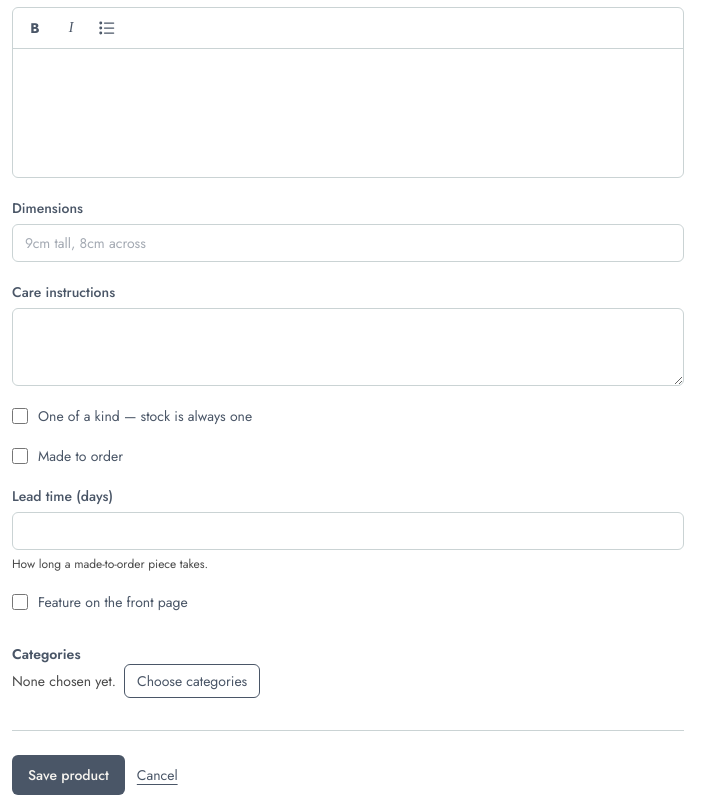
ProductForm › lists every category as a checkbox once asked, nested ones under their parent
The width and height of the screenshot is (701, 795).
(page scrolled)
Click the button "Choose categories" at (192, 681), box [124,664,260,698]
(page scrolled)
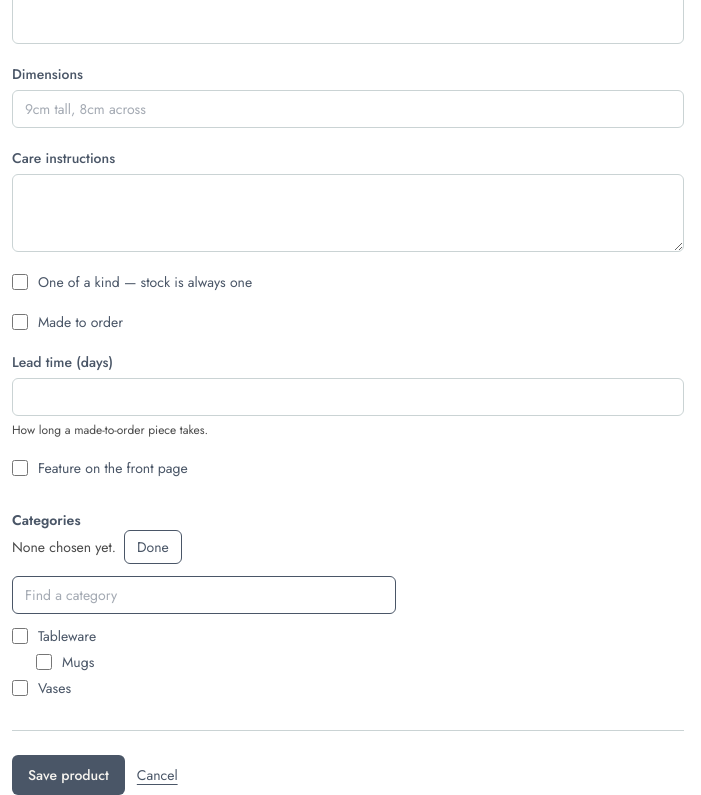
expect the checkbox labelled "Tableware" is shown: met, box [12,628,28,644]
expect the checkbox labelled "Vases" is shown: met, box [12,680,28,696]
